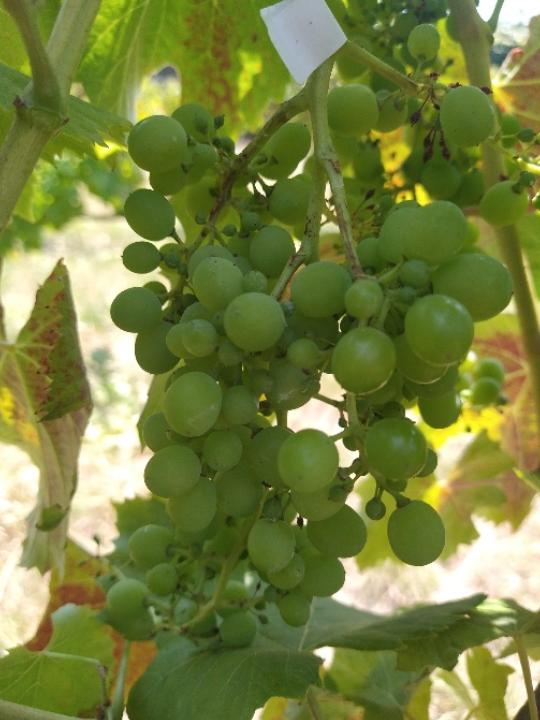grape: (105, 23, 516, 651)
